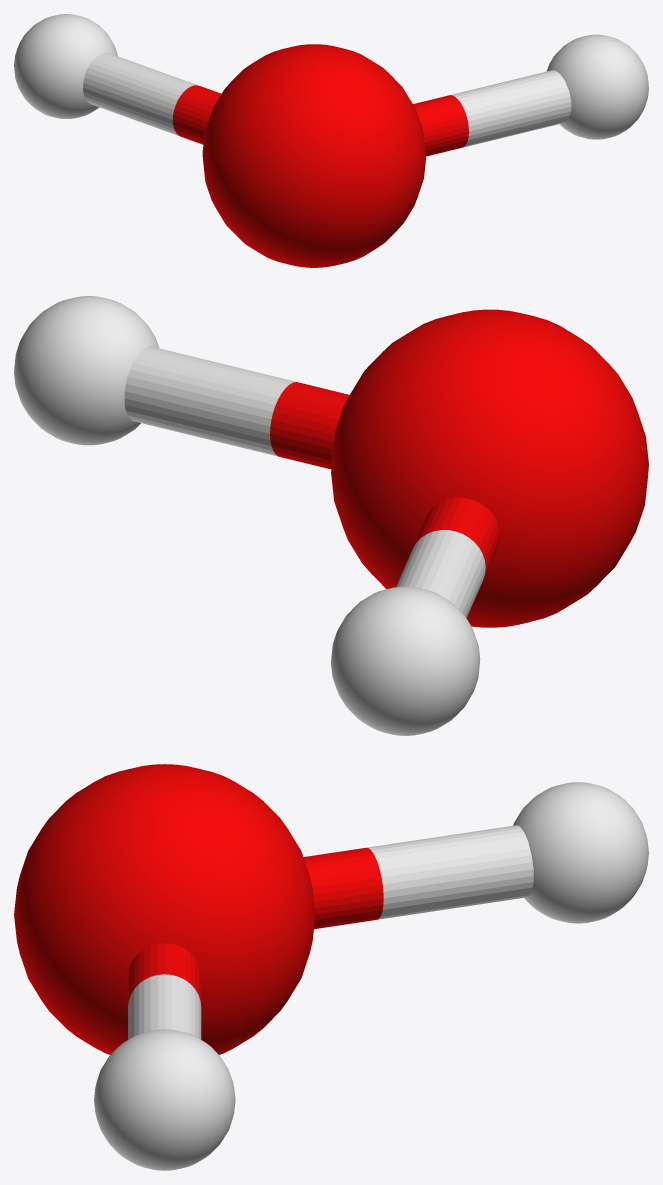
Rendered from water.fbx.
3 renders of one model, top to bottom at view 1: azimuth 30°, elevation 25°; view 2: azimuth 150°, elevation 25°; view 3: azimuth 270°, elevation 25°, orthographic. The views are drawn at different scales.
Visible parts, largest first — view 1: O01, O01-H02, H02, H03, O01-H03; view 2: O01, H03, O01-H02, H02, O01-H03; view 3: O01, O01-H03, H02, H03, O01-H02.
Part boxes in pixels (x1,y1,x2,y2): O01: [202, 44, 425, 267]; O01-H02: [413, 70, 571, 156]; H02: [547, 34, 648, 139]; H03: [14, 14, 117, 118]; O01-H03: [83, 53, 221, 144]; O01: [331, 309, 648, 627]; H03: [331, 586, 480, 735]; O01-H02: [124, 346, 349, 469]; H02: [14, 296, 159, 445]; O01-H03: [396, 497, 499, 617]; O01: [14, 764, 315, 1054]; O01-H03: [303, 825, 533, 929]; H02: [94, 1029, 235, 1170]; H03: [513, 782, 648, 923]; O01-H02: [128, 943, 201, 1039].
Size of the model in its own units: 159 by 66 by 139.
